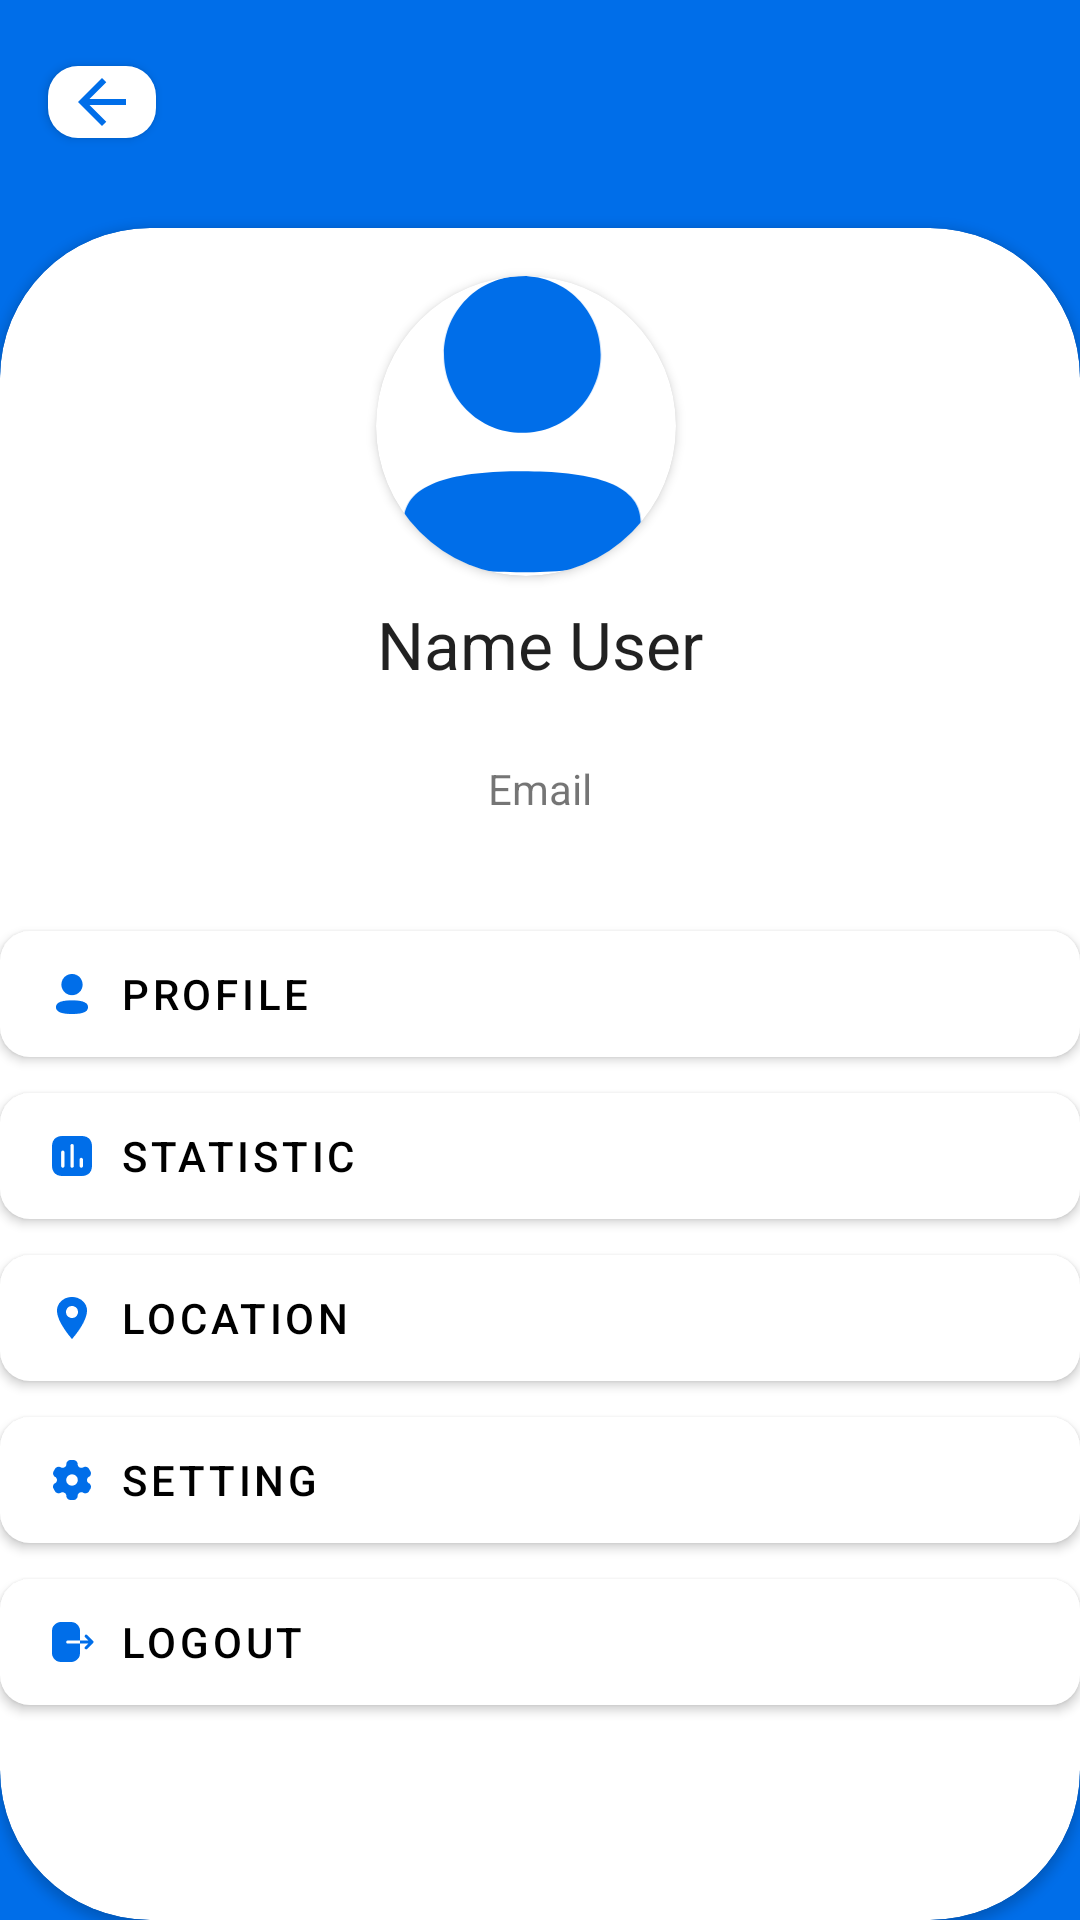

Where icons sit on this 1080px×1920px app screen, as (x1=x1, y1=y1, x2=x2, y2=y2):
arrow back: (x1=48, y1=66, x2=156, y2=138)
